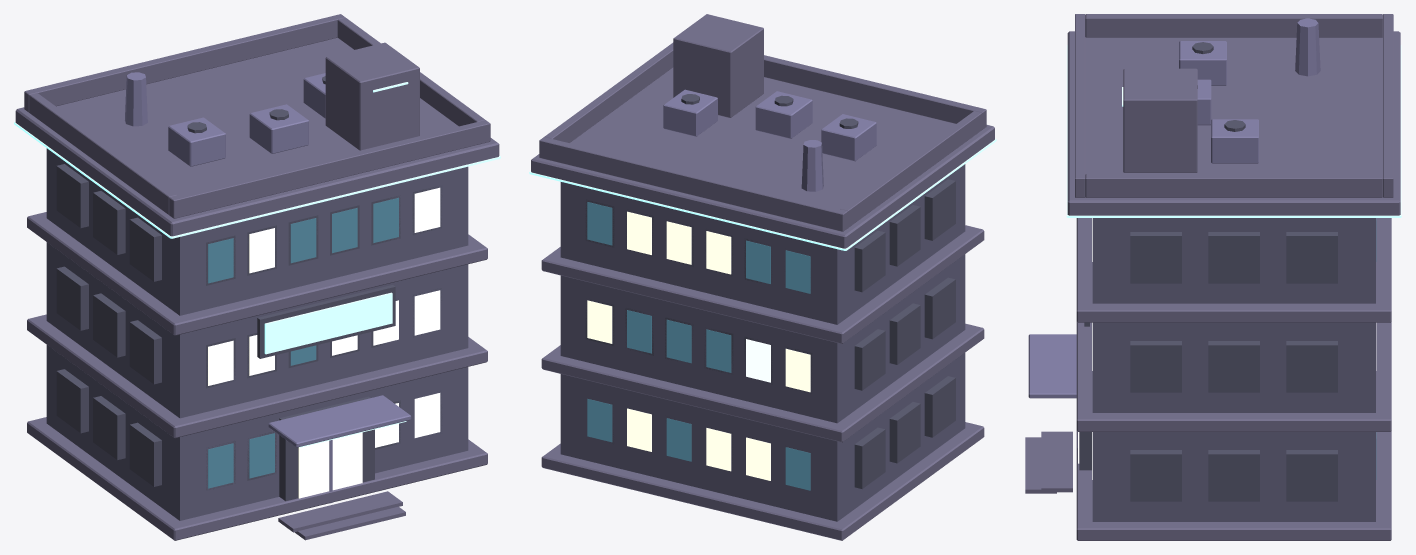
File: research_annex.glb
3 views of the same model, side by side, from view 1: azimuth 30°, elevation 25°; view 2: azimuth 150°, elevation 25°; view 3: azimuth 270°, elevation 25° (orthographic). The views are drawn at different scales.
Visible parts, largest first — view 1: research_annex_Concrete@academic, research_annex_Graphite@academic, research_annex_DarkAlloy@academic, research_annex_Steel@academic, research_annex_WarmGlass, research_annex_BlackGlass, research_annex_Cyan, research_annex_CoolGlass; view 2: research_annex_Concrete@academic, research_annex_Graphite@academic, research_annex_DarkAlloy@academic, research_annex_BlackGlass, research_annex_WarmGlass, research_annex_Steel@academic, research_annex_Cyan, research_annex_CoolGlass; view 3: research_annex_Concrete@academic, research_annex_Graphite@academic, research_annex_DarkAlloy@academic, research_annex_Steel@academic, research_annex_Cyan.
Boxes of the visible parts, x1,y1,x2,y2 form: research_annex_Concrete@academic: (15, 14, 499, 540); research_annex_Graphite@academic: (46, 148, 468, 520); research_annex_DarkAlloy@academic: (56, 76, 442, 501); research_annex_Steel@academic: (125, 72, 411, 503); research_annex_WarmGlass: (208, 187, 440, 498); research_annex_BlackGlass: (208, 197, 398, 488); research_annex_Cyan: (14, 82, 500, 447); research_annex_CoolGlass: (414, 290, 440, 335); research_annex_Concrete@academic: (531, 14, 994, 540); research_annex_Graphite@academic: (560, 164, 965, 521); research_annex_DarkAlloy@academic: (585, 94, 955, 488); research_annex_BlackGlass: (587, 202, 810, 490); research_annex_WarmGlass: (587, 211, 810, 480); research_annex_Steel@academic: (663, 89, 876, 191); research_annex_Cyan: (529, 138, 996, 250); research_annex_CoolGlass: (746, 339, 770, 382); research_annex_Concrete@academic: (1025, 14, 1400, 540); research_annex_Graphite@academic: (1092, 218, 1375, 521); research_annex_DarkAlloy@academic: (1079, 42, 1337, 501); research_annex_Steel@academic: (1028, 18, 1320, 447); research_annex_Cyan: (1066, 45, 1401, 217).
Size of the model in its own units: 11.46 by 13.25 by 10.63.
